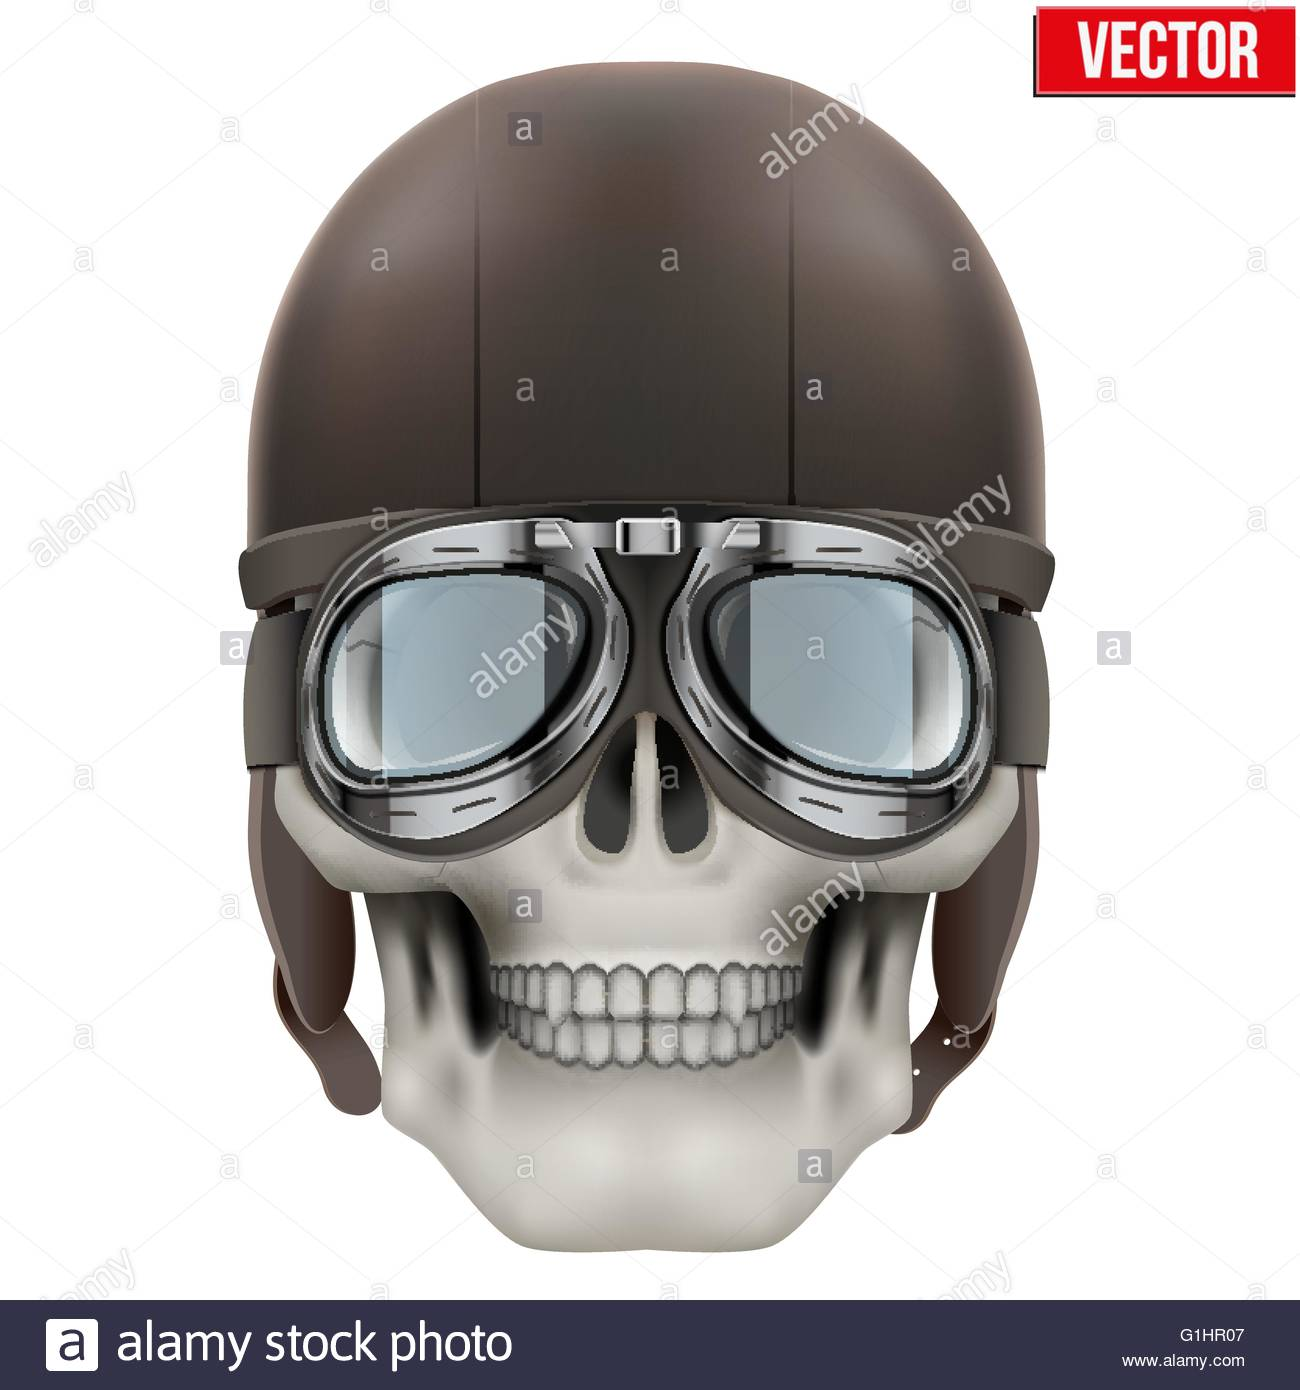with_helmet: (246, 60, 1087, 1016)
